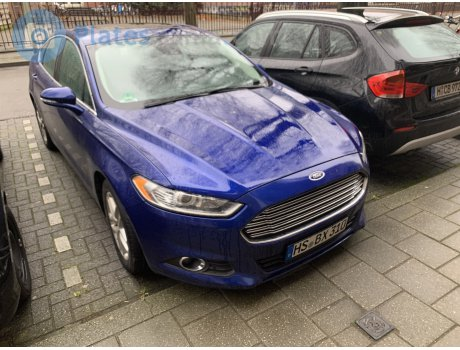License Plates: (296, 218, 347, 249)
